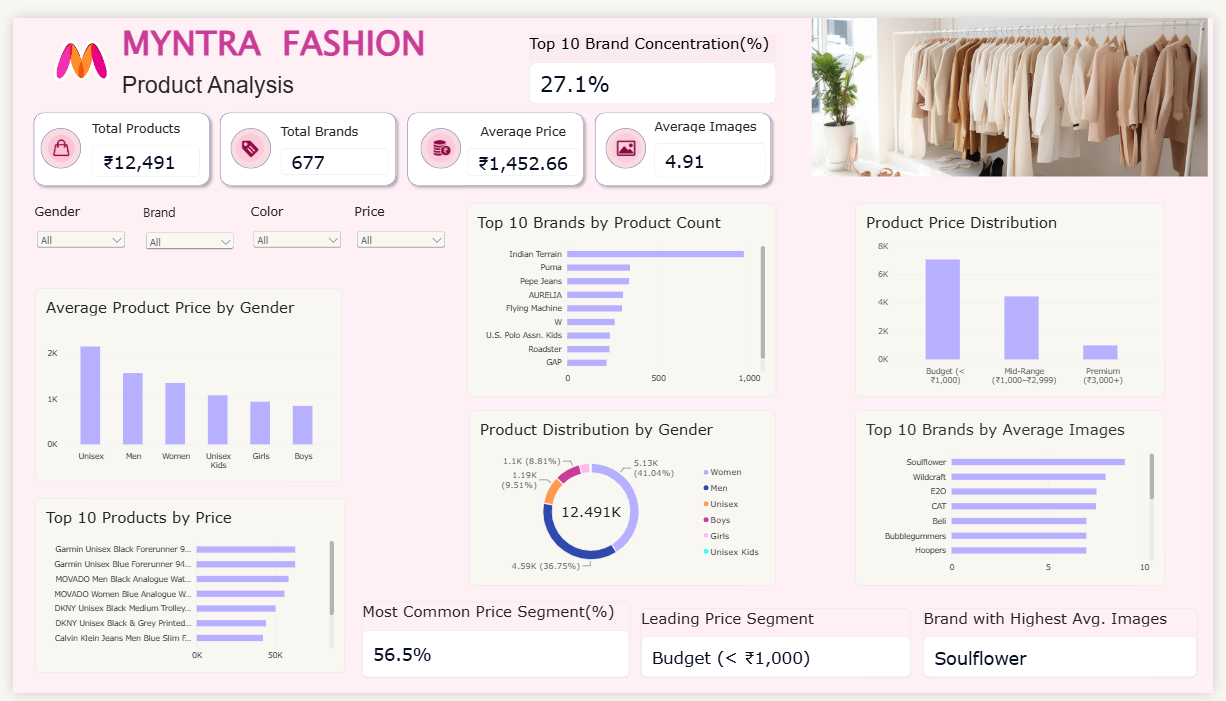

The dashboard page shown, as its layout file describes it:
{"tool":"powerbi","page":{"name":"Fashion Analysis","canvas":[1920,1080],"ordinal":1},"visuals":[{"type":"donutChart","title":"Product Distribution by Gender","fields":{"Category":["myntra_products_catalog.Gender"],"Y":["CountNonNull(myntra_products_catalog.ProductID)"]},"box":[730,627.5,490,280],"z":0},{"type":"clusteredBarChart","title":"Top 10 Brands by Product Count","fields":{"Category":["myntra_products_catalog.ProductBrand"],"Y":["CountNonNull(myntra_products_catalog.ProductID)"]},"box":[725,295,495,310],"z":1000},{"type":"clusteredColumnChart","title":"Average Product Price by Gender","fields":{"Category":["myntra_products_catalog.Gender"],"Y":["Avg(myntra_products_catalog.Price (INR))"]},"box":[35,432.5,490,310],"z":2000},{"type":"clusteredBarChart","title":"Top 10 Brands by Average Images","fields":{"Category":["myntra_products_catalog.ProductBrand"],"Y":["Avg(myntra_products_catalog.NumImages)"]},"box":[1347.5,627.5,495,280],"z":3000},{"type":"textbox","box":[173.3,0,513.3,120],"z":4000},{"type":"textbox","box":[173.3,86.7,513.3,76.7],"z":5000},{"type":"image","box":[1270,0,650,253.3],"z":6000},{"type":"shape","box":[24,142,300,135],"z":7000},{"type":"shape","box":[322.9,141.4,300,135],"z":8000},{"type":"shape","box":[622.9,141.4,300,135],"z":9000},{"type":"shape","box":[922.9,141.4,300,135],"z":10000},{"type":"shape","box":[44.3,175.7,65,65],"z":11000},{"type":"shape","box":[347.1,175.7,65,65],"z":12000},{"type":"shape","box":[652.9,175.7,65,65],"z":13000},{"type":"shape","box":[948.6,175.7,65,65],"z":14000},{"type":"cardVisual","title":"Total Products","fields":{"Data":["myntra_products_catalog.Total Products Display"]},"box":[126.7,163.3,173.3,90],"z":15000},{"type":"cardVisual","title":"Total Brands","fields":{"Data":["Count(myntra_products_catalog.ProductBrand)"]},"box":[428.3,168.3,173.3,83.3],"z":16000},{"type":"cardVisual","title":"   Average Price","fields":{"Data":["myntra_products_catalog.Average Price Display"]},"box":[725,167.5,180,85],"z":17000},{"type":"cardVisual","title":"Average Images","fields":{"Data":["Avg(myntra_products_catalog.NumImages)"]},"box":[1026.7,160,178.3,95],"z":18000},{"type":"image","box":[33.3,181.7,86.7,51.7],"z":19000},{"type":"image","box":[336.7,181.7,86.7,51.7],"z":20000},{"type":"image","box":[641.7,181.7,86.7,51.7],"z":21000},{"type":"image","box":[938.3,181.7,86.7,51.7],"z":22000},{"type":"clusteredBarChart","title":"Top 10 Products by Price","fields":{"Category":["myntra_products_catalog.ProductName"],"Y":["Sum(myntra_products_catalog.Price (INR))"]},"box":[35,767.5,495,280],"z":23000},{"type":"clusteredColumnChart","title":"Product Price Distribution","fields":{"Category":["myntra_products_catalog.Price Range"],"Y":["CountNonNull(myntra_products_catalog.ProductID)"]},"box":[1347.5,295,495,310],"z":24000},{"type":"image","box":[0,0,223.3,136.7],"z":25000},{"type":"slicer","title":"Gender","fields":{"Values":["myntra_products_catalog.Gender"]},"box":[34,296,150,90],"z":26000},{"type":"slicer","title":"Brand","fields":{"Values":["myntra_products_catalog.ProductBrand"]},"box":[208,296,150,90],"z":27000},{"type":"slicer","title":"Color","fields":{"Values":["myntra_products_catalog.PrimaryColor"]},"box":[380,296,150,90],"z":28000},{"type":"slicer","title":"Price","fields":{"Values":["myntra_products_catalog.Price (INR)"]},"box":[546,296,150,90],"z":29000},{"type":"cardVisual","title":"Top 10 Brand Concentration(%)","fields":{"Data":["myntra_products_catalog.Top 10 Brand Concentration %"]},"box":[825,25,395,112.5],"z":30000},{"type":"cardVisual","title":"Most Common Price Segment(%)","fields":{"Data":["myntra_products_catalog.Most Common Price Segment %"]},"box":[558.3,933.7,430,121.9],"z":31000},{"type":"cardVisual","title":"Leading Price Segment","fields":{"Data":["myntra_products_catalog.Most Common Price Segment"]},"box":[1004.3,943.3,433.2,112.3],"z":32000},{"type":"cardVisual","title":"Brand with Highest Avg. Images","fields":{"Data":["myntra_products_catalog.Brand with Highest Average Images"]},"box":[1456.7,943.3,439.6,112.3],"z":33000}]}

Visuals, with their boxes in screenshot pixels (x1, y1, x2, y2), scaled from the page's 1920x1080 canvas onto the 1226x701 screenshot:
"Product Distribution by Gender" donutChart: bbox=(466, 407, 779, 589)
"Top 10 Brands by Product Count" clusteredBarChart: bbox=(463, 191, 779, 393)
"Average Product Price by Gender" clusteredColumnChart: bbox=(22, 281, 335, 482)
"Top 10 Brands by Average Images" clusteredBarChart: bbox=(860, 407, 1177, 589)
textbox: bbox=(111, 0, 438, 78)
textbox: bbox=(111, 56, 438, 106)
image: bbox=(811, 0, 1225, 164)
shape: bbox=(15, 92, 207, 180)
shape: bbox=(206, 92, 398, 179)
shape: bbox=(398, 92, 589, 179)
shape: bbox=(589, 92, 781, 179)
shape: bbox=(28, 114, 70, 156)
shape: bbox=(222, 114, 263, 156)
shape: bbox=(417, 114, 458, 156)
shape: bbox=(606, 114, 647, 156)
"Total Products" cardVisual: bbox=(81, 106, 192, 164)
"Total Brands" cardVisual: bbox=(273, 109, 384, 163)
"   Average Price" cardVisual: bbox=(463, 109, 578, 164)
"Average Images" cardVisual: bbox=(656, 104, 769, 166)
image: bbox=(21, 118, 77, 151)
image: bbox=(215, 118, 270, 151)
image: bbox=(410, 118, 465, 151)
image: bbox=(599, 118, 655, 151)
"Top 10 Products by Price" clusteredBarChart: bbox=(22, 498, 338, 680)
"Product Price Distribution" clusteredColumnChart: bbox=(860, 191, 1177, 393)
image: bbox=(0, 0, 143, 89)
"Gender" slicer: bbox=(22, 192, 117, 251)
"Brand" slicer: bbox=(133, 192, 229, 251)
"Color" slicer: bbox=(243, 192, 338, 251)
"Price" slicer: bbox=(349, 192, 444, 251)
"Top 10 Brand Concentration(%)" cardVisual: bbox=(527, 16, 779, 89)
"Most Common Price Segment(%)" cardVisual: bbox=(356, 606, 631, 685)
"Leading Price Segment" cardVisual: bbox=(641, 612, 918, 685)
"Brand with Highest Avg. Images" cardVisual: bbox=(930, 612, 1211, 685)
